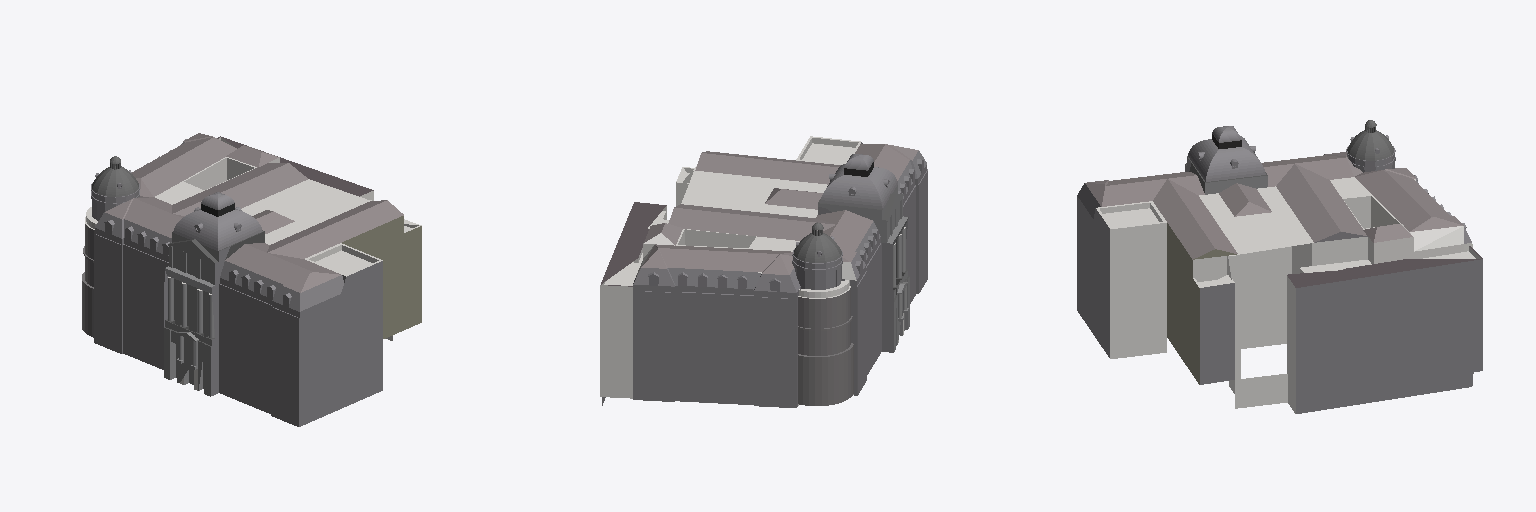
The model's file is palacioNacional.obj.
3 views of the same model, side by side, from view 1: azimuth 30°, elevation 25°; view 2: azimuth 150°, elevation 25°; view 3: azimuth 270°, elevation 25° (orthographic).
Visible parts, largest first — view 1: Mesh13 Model, Mesh8 Group4 Model, Mesh1 Group1 Model; view 2: Mesh13 Model, Mesh8 Group4 Model, Mesh1 Group1 Model; view 3: Mesh13 Model, Mesh8 Group4 Model, Mesh1 Group1 Model.
Boxes of the visible parts, x1,y1,x2,y2 form: Mesh13 Model: [82, 133, 421, 426]; Mesh8 Group4 Model: [173, 208, 262, 250]; Mesh1 Group1 Model: [92, 166, 138, 196]; Mesh13 Model: [600, 136, 927, 407]; Mesh8 Group4 Model: [820, 164, 897, 208]; Mesh1 Group1 Model: [793, 233, 841, 262]; Mesh13 Model: [1077, 152, 1482, 413]; Mesh8 Group4 Model: [1188, 136, 1265, 181]; Mesh1 Group1 Model: [1347, 130, 1393, 160].
Size of the model in its own units: 51.7 by 38.08 by 72.31.